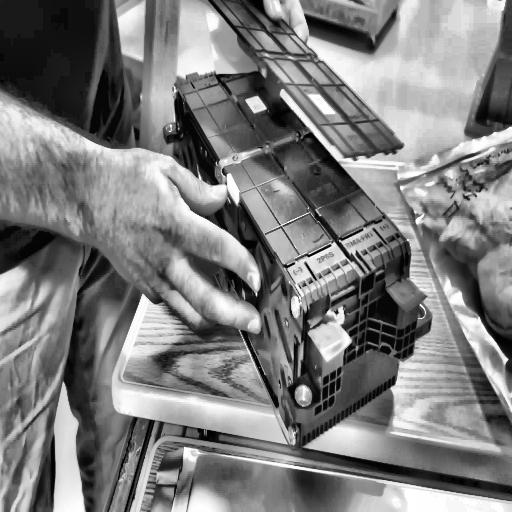battery_module: (173, 63, 409, 448)
